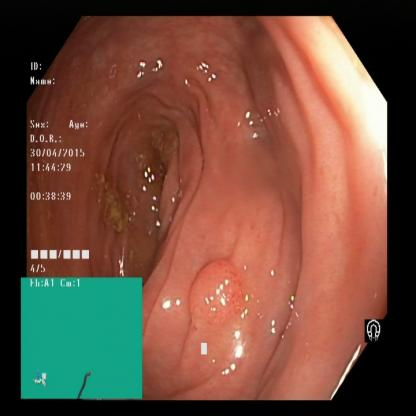Labels: (22, 275, 144, 400), (28, 58, 94, 276), (359, 310, 388, 352)
Polyps: (184, 250, 260, 341)
